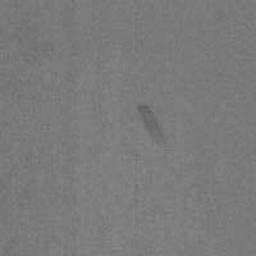Oil spot: (137, 104, 166, 146)
